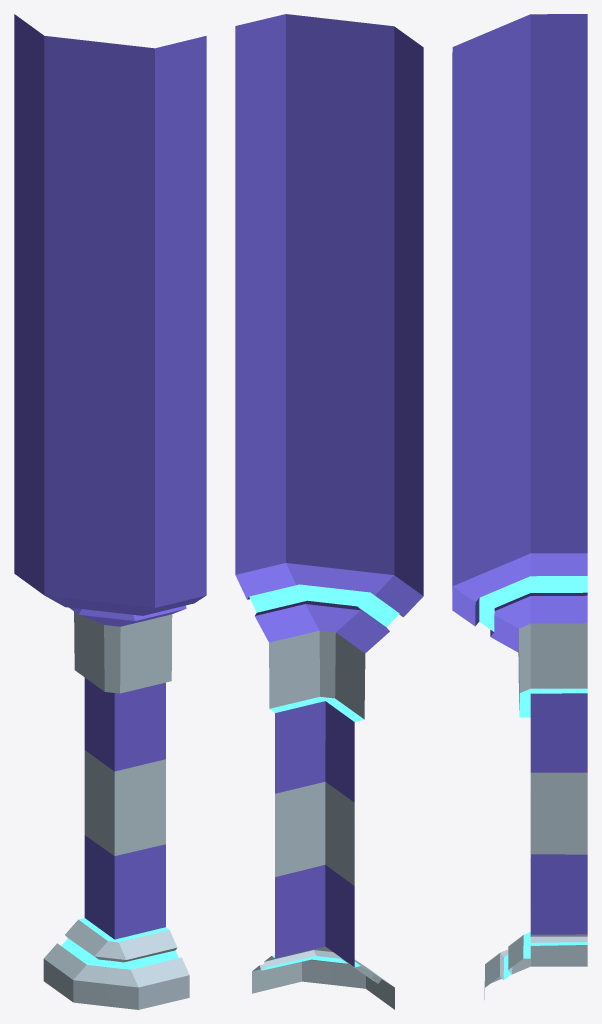
The model's file is Half_PillarWall_A_Tall.fbx.
3 renders of one model, left to right at view 1: azimuth 30°, elevation 25°; view 2: azimuth 210°, elevation 25°; view 3: azimuth 270°, elevation 25°, orthographic. The views are drawn at different scales.
Parts seen in each view (by area): view 1: Half_PillarWall_A; view 2: Half_PillarWall_A; view 3: Half_PillarWall_A.
Part boxes in pixels (x1,y1,x2,y2): Half_PillarWall_A: [14, 14, 206, 1009]; Half_PillarWall_A: [235, 14, 423, 1009]; Half_PillarWall_A: [452, 14, 587, 999].
Size of the model in its own units: 212 by 1622 by 212.
